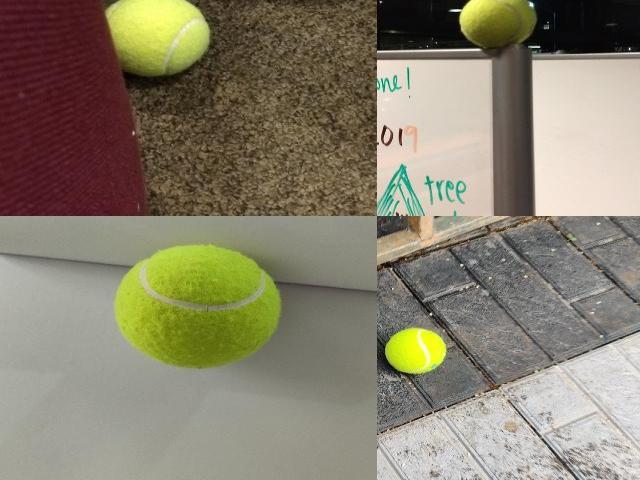tennis-ball: (113, 245, 281, 369), (121, 0, 211, 77), (458, 0, 539, 48), (384, 328, 446, 374)
